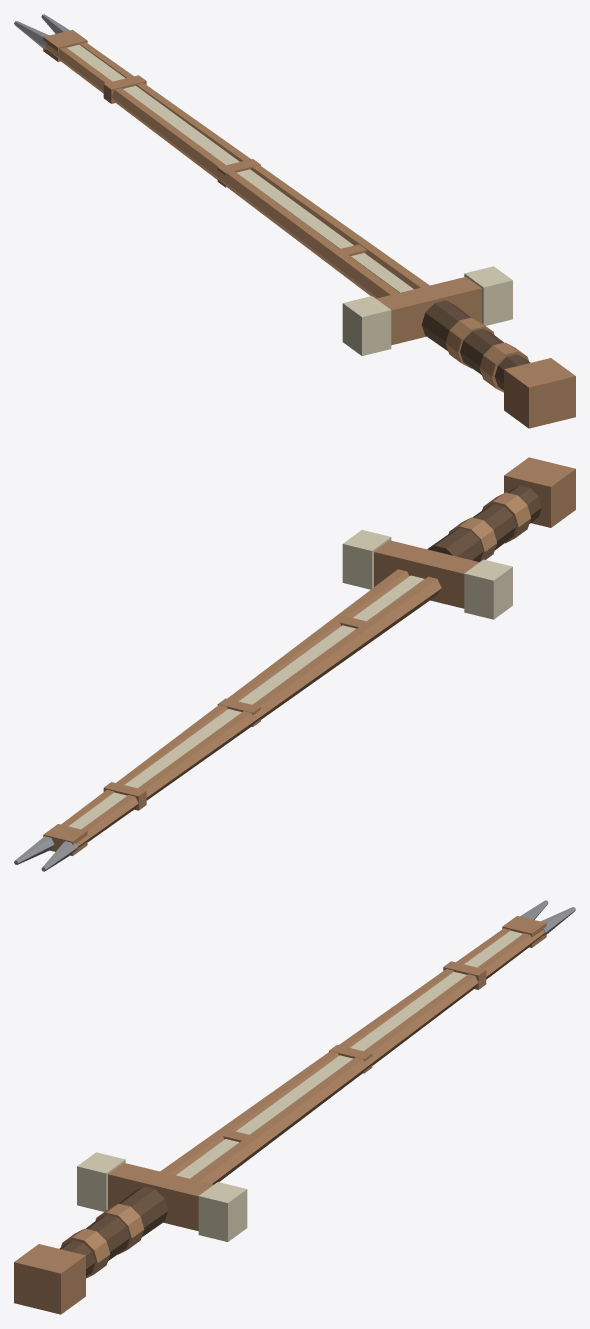
File: SM_ConductiveBlade.glb
3 renders of one model, top to bottom at view 1: azimuth 30°, elevation 25°; view 2: azimuth 150°, elevation 25°; view 3: azimuth 330°, elevation 25°, orthographic.
Visible parts, largest first — view 1: SM_ConductiveBlade; view 2: SM_ConductiveBlade; view 3: SM_ConductiveBlade.
Part boxes in pixels (<box>): SM_ConductiveBlade: <box>14,14,575,428</box>; SM_ConductiveBlade: <box>14,457,575,871</box>; SM_ConductiveBlade: <box>14,900,575,1314</box>.
Size of the model in its own units: 0.154 by 0.04 by 0.9232.
